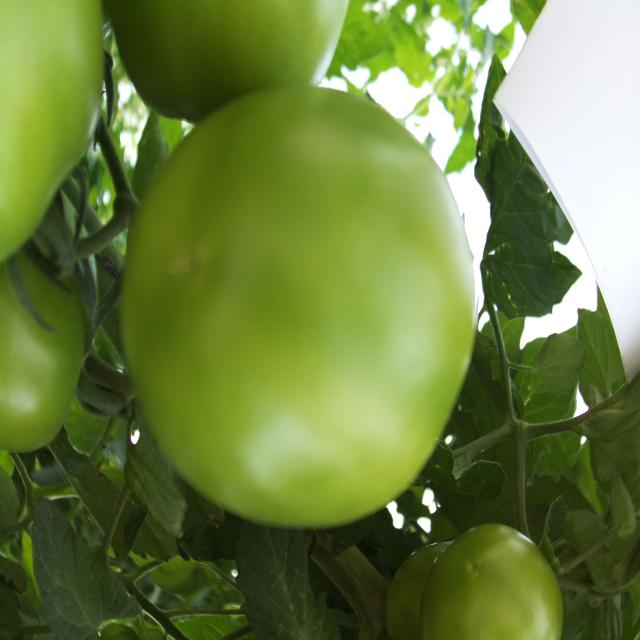yesil: (121, 61, 468, 518)
